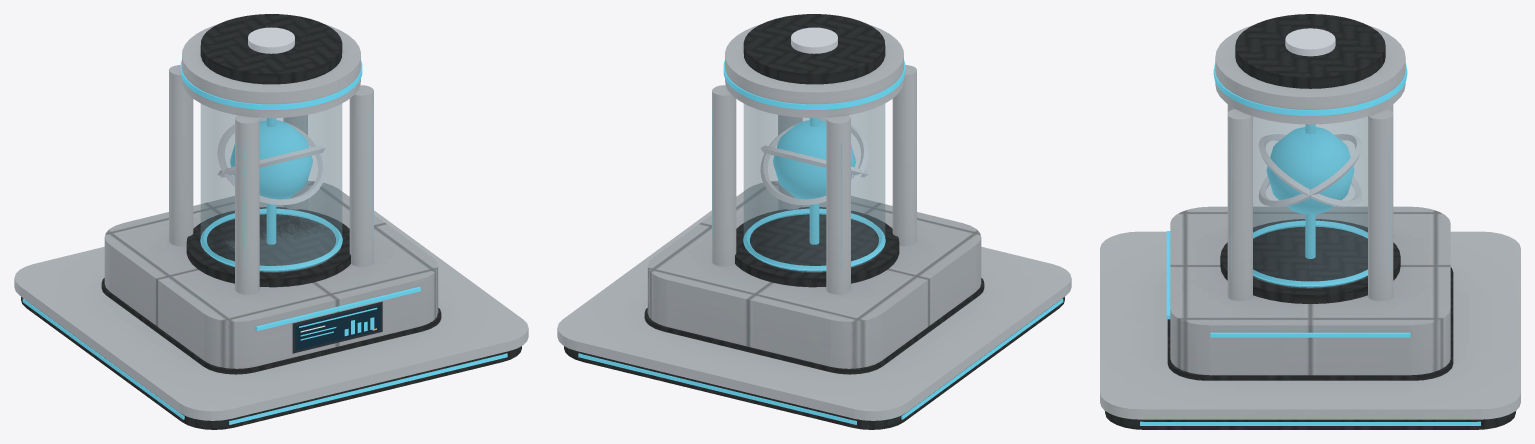
The model's file is enterprise_generator.glb.
3 views of the same model, side by side, from view 1: azimuth 30°, elevation 25°; view 2: azimuth 150°, elevation 25°; view 3: azimuth 270°, elevation 25° (orthographic). The views are drawn at different scales.
Parts seen in each view (by area): view 1: te_enterprise_generator; view 2: te_enterprise_generator; view 3: te_enterprise_generator.
Part boxes in pixels (x1=…): te_enterprise_generator: x1=14, y1=14, x2=528, y2=429; te_enterprise_generator: x1=557, y1=14, x2=1071, y2=429; te_enterprise_generator: x1=1100, y1=14, x2=1520, y2=429.
Size of the model in its own units: 0.84 by 0.67 by 0.84.
Materials: 2 (1 with a texture image).
